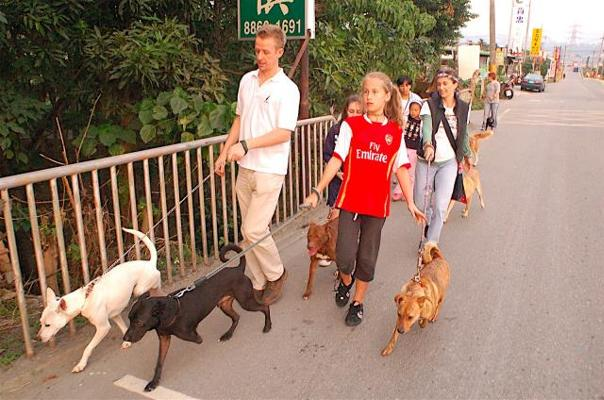person: (214, 25, 300, 305)
